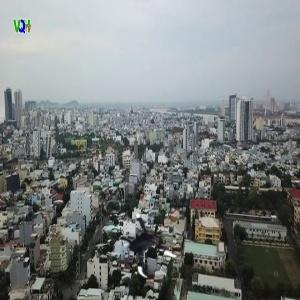drone: (109, 207, 183, 281)
